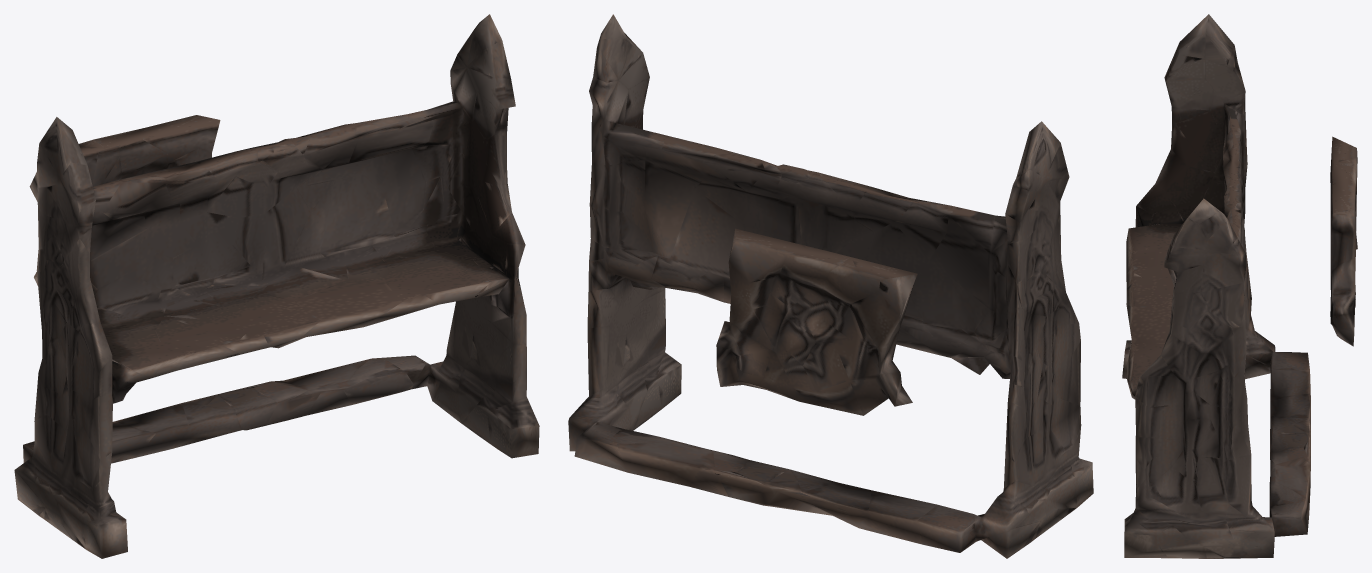
File: prayer_pew.glb
The picture shows the model from 3 angles, left to right: view 1: azimuth 30°, elevation 25°; view 2: azimuth 150°, elevation 25°; view 3: azimuth 270°, elevation 25°; orthographic projection. The views are drawn at different scales.
Size of the model in its own units: 2 by 1.78 by 1.06.
1 material, 1 textured.
